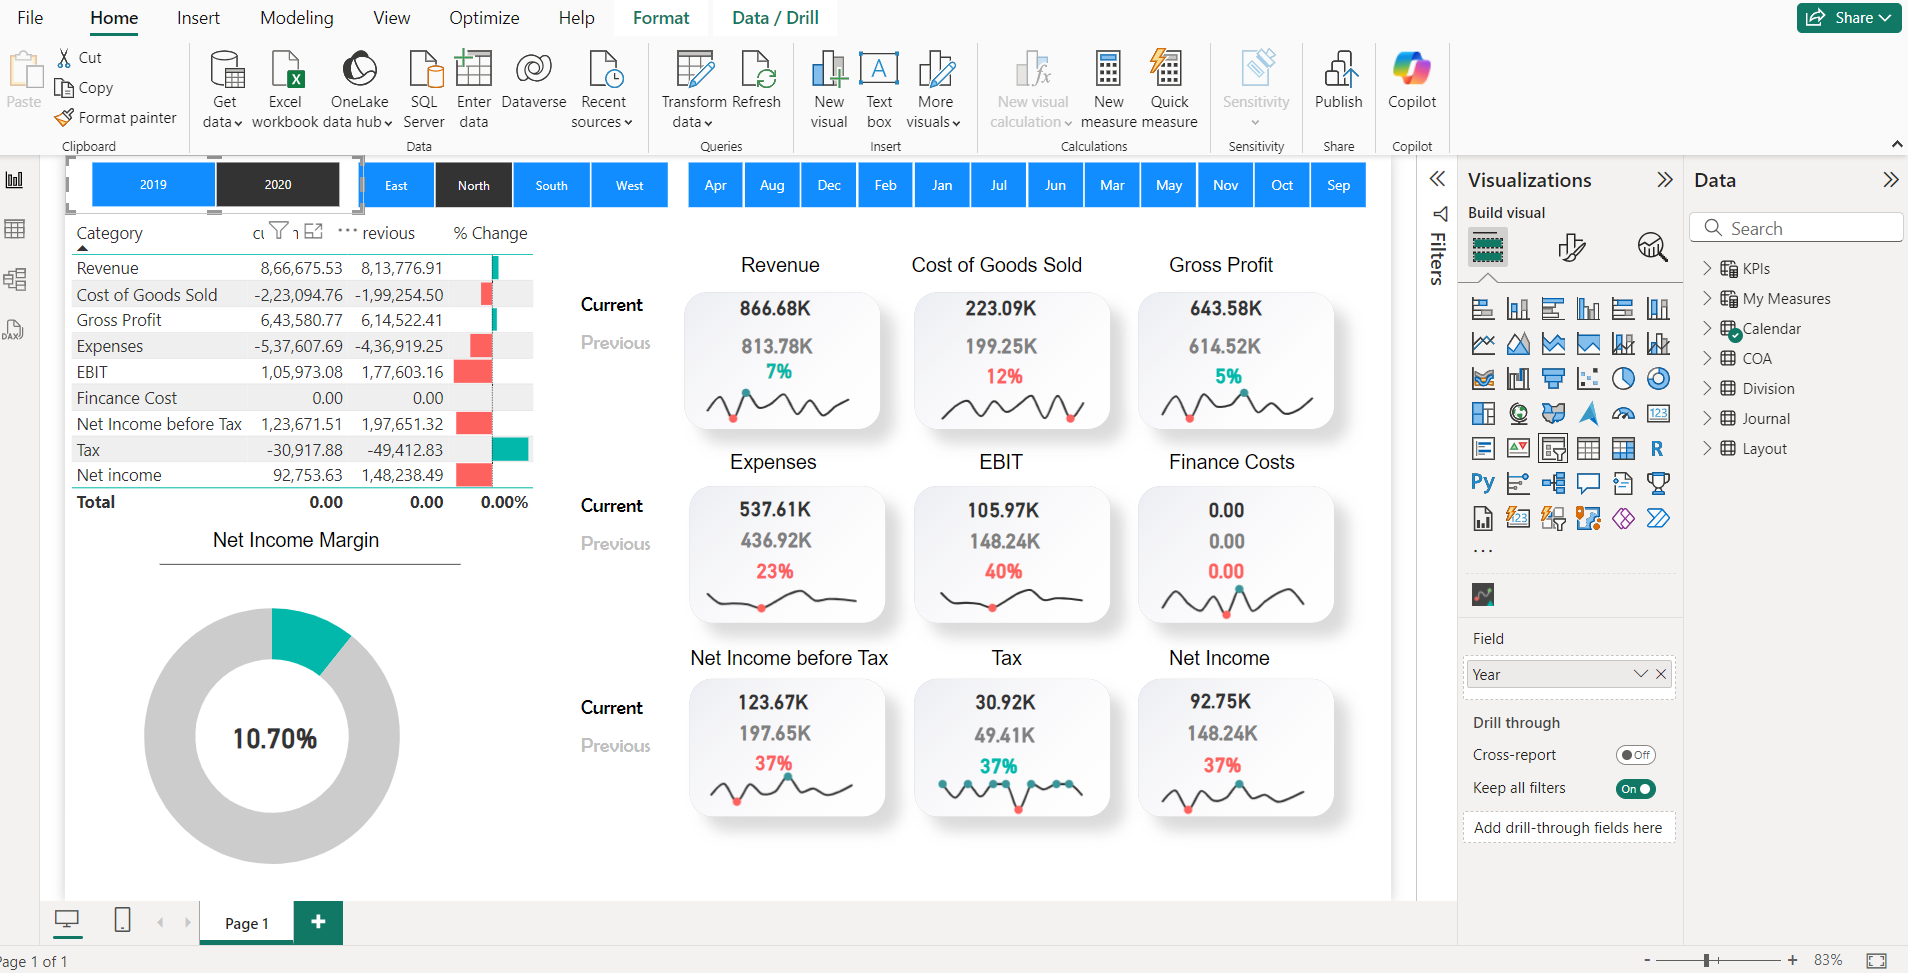

What the dashboard file says about the page in this screenshot:
{"tool":"powerbi","page":{"name":"Page 1","canvas":[1280,720],"ordinal":0},"visuals":[{"type":"card","fields":{"Values":["My Measures.Net Income Margin"]},"box":[133.3,526.7,136.7,70],"z":0},{"type":"tableEx","fields":{"Values":["Layout.Category ","My Measures.current","My Measures.Previous","My Measures.% Change"]},"box":[0,56.7,473.3,303.3],"z":1000},{"type":"slicer","fields":{"Values":["Calendar.Year"]},"box":[0,0,288.9,56.7],"z":2000},{"type":"donutChart","fields":{"Y":["My Measures.Net Income Margin","My Measures.Inv Net Margin"]},"box":[0,401.4,400,318.6],"z":3000},{"type":"card","fields":{"Values":["KPIs.Revenue Current"]},"box":[630,132.9,111.4,30],"z":4000},{"type":"card","fields":{"Values":["KPIs.Revenue Previous"]},"box":[631.4,170,112.9,28.6],"z":5000},{"type":"card","fields":{"Values":["KPIs.Revenue % Change"]},"box":[632.9,194.3,111.4,28.6],"z":6000},{"type":"PBI_CV_25997FEB_F466_44FA_B562_AC4063283C4C","fields":{"axis":["Calendar.Month Name"],"measure":["My Measures.Revenue"]},"box":[601.4,212.9,175.7,52.9],"z":7000},{"type":"card","fields":{"Values":["KPIs.Cost of Goods Sold Current"]},"box":[847.1,132.9,112.9,30],"z":8000},{"type":"card","fields":{"Values":["KPIs.Cost Of Goods Sold Previous"]},"box":[847.1,170,112.9,28.6],"z":9000},{"type":"card","fields":{"Values":["KPIs.Cost Of Goods Sold % Change"]},"box":[850,198.6,112.9,28.6],"z":10000},{"type":"PBI_CV_25997FEB_F466_44FA_B562_AC4063283C4C","fields":{"axis":["Calendar.Month Name"],"measure":["My Measures.Cost Of Goods Sold"]},"box":[828.6,212.9,175.7,52.9],"z":11000},{"type":"card","fields":{"Values":["KPIs.Gross Profit Current"]},"box":[1064.3,132.9,112.9,30],"z":12000},{"type":"card","fields":{"Values":["KPIs.Gross Profit Previous"]},"box":[1062.9,170,112.9,28.6],"z":13000},{"type":"card","fields":{"Values":["KPIs.Gross Profit % Change"]},"box":[1064.3,198.6,112.9,28.6],"z":14000},{"type":"PBI_CV_25997FEB_F466_44FA_B562_AC4063283C4C","fields":{"axis":["Calendar.Month Name"],"measure":["My Measures.Gross Profit"]},"box":[1041.4,212.9,184.3,52.9],"z":15000},{"type":"card","fields":{"Values":["KPIs.Expenses Current"]},"box":[628.6,327.1,112.9,30],"z":16000},{"type":"card","fields":{"Values":["KPIs.Expenses previous"]},"box":[630,357.1,112.9,28.6],"z":17000},{"type":"card","fields":{"Values":["KPIs.Expenses % Change"]},"box":[630,387.1,111.4,28.6],"z":18000},{"type":"PBI_CV_25997FEB_F466_44FA_B562_AC4063283C4C","fields":{"axis":["Calendar.Month Name"],"measure":["My Measures.Expenses"]},"box":[601.4,397.1,182.9,51.4],"z":19000},{"type":"card","fields":{"Values":["KPIs.EBIT Current"]},"box":[848.6,320,114.3,45.7],"z":20000},{"type":"card","fields":{"Values":["KPIs.EBIT Previous"]},"box":[850,358.6,112.9,28.6],"z":21000},{"type":"card","fields":{"Values":["KPIs.EBIT % Change"]},"box":[850,387.1,111.4,28.6],"z":22000},{"type":"PBI_CV_25997FEB_F466_44FA_B562_AC4063283C4C","fields":{"axis":["Calendar.Month Name"],"measure":["My Measures.Expenses"]},"box":[827.3,396.2,175.6,52.2],"z":23000},{"type":"card","fields":{"Values":["KPIs.Fincance Cost Current"]},"box":[1064.3,319.7,114.3,45.7],"z":24000},{"type":"card","fields":{"Values":["KPIs.Fincance Cost Current"]},"box":[1065.7,358.3,112.9,28.6],"z":25000},{"type":"card","fields":{"Values":["KPIs.Fincance Cost % Change"]},"box":[1065.7,386.9,111.4,28.6],"z":26000},{"type":"PBI_CV_25997FEB_F466_44FA_B562_AC4063283C4C","fields":{"axis":["Calendar.Month Name"],"measure":["My Measures.Finance Costs"]},"box":[1041.4,401.4,175.7,52.9],"z":27000},{"type":"card","fields":{"Values":["KPIs.Net Income Before Tax Current"]},"box":[626.6,506,114.3,45.7],"z":28000},{"type":"card","fields":{"Values":["KPIs.Net Income Before Tax  Previous"]},"box":[628,544.6,112.9,28.6],"z":29000},{"type":"card","fields":{"Values":["KPIs.Net Income before Tax % Change"]},"box":[628,573.1,111.4,28.6],"z":30000},{"type":"PBI_CV_25997FEB_F466_44FA_B562_AC4063283C4C","fields":{"axis":["Calendar.Month Name"],"measure":["My Measures.Net income Before Tax"]},"box":[605.3,582.2,175.6,52.2],"z":31000},{"type":"card","fields":{"Values":["KPIs.Net income Previous"]},"box":[1060,544.3,112.9,28.6],"z":32000},{"type":"card","fields":{"Values":["KPIs.Tax % Change"]},"box":[846.3,575.4,111.4,28.6],"z":33000},{"type":"PBI_CV_25997FEB_F466_44FA_B562_AC4063283C4C","fields":{"axis":["Calendar.Month Name"],"measure":["My Measures.Tax"]},"box":[828.6,590,174.3,52.9],"z":34000},{"type":"card","fields":{"Values":["KPIs.Tax Current"]},"box":[850,505.7,114.3,45.7],"z":35000},{"type":"card","fields":{"Values":["KPIs.Tax Previous"]},"box":[850,545.7,112.9,28.6],"z":36000},{"type":"card","fields":{"Values":["KPIs.Net income  % Change"]},"box":[1061.1,574.3,111.4,28.6],"z":37000},{"type":"PBI_CV_25997FEB_F466_44FA_B562_AC4063283C4C","fields":{"axis":["Calendar.Month Name"],"measure":["My Measures.Net income"]},"box":[1041.4,590,175.7,52.9],"z":38000},{"type":"card","fields":{"Values":["KPIs.Net income Current"]},"box":[1058.6,504.3,114.3,45.7],"z":39000},{"type":"slicer","fields":{"Values":["Division.Division"]},"box":[257.1,0,348.6,57.1],"z":40000},{"type":"slicer","fields":{"Values":["Calendar.Month Name"]},"box":[575.7,0,704.3,57.1],"z":41000}]}

Visuals, with their boxes on the page's 1280x720 design canvas (x1, y1, x2, y2). These are canvas units, not pixel positions in the 1908x973 screenshot, which may show the page scaled, cropped or inside an application window:
card - My Measures.Net Income Margin: region(133, 527, 270, 597)
tableEx - Layout.Category  x My Measures.current: region(0, 57, 473, 360)
slicer - Calendar.Year: region(0, 0, 289, 57)
donutChart - My Measures.Net Income Margin x My Measures.Inv Net Margin: region(0, 401, 400, 720)
card - KPIs.Revenue Current: region(630, 133, 741, 163)
card - KPIs.Revenue Previous: region(631, 170, 744, 199)
card - KPIs.Revenue % Change: region(633, 194, 744, 223)
PBI_CV_25997FEB_F466_44FA_B562_AC4063283C4C - Calendar.Month Name x My Measures.Revenue: region(601, 213, 777, 266)
card - KPIs.Cost of Goods Sold Current: region(847, 133, 960, 163)
card - KPIs.Cost Of Goods Sold Previous: region(847, 170, 960, 199)
card - KPIs.Cost Of Goods Sold % Change: region(850, 199, 963, 227)
PBI_CV_25997FEB_F466_44FA_B562_AC4063283C4C - Calendar.Month Name x My Measures.Cost Of Goods Sold: region(829, 213, 1004, 266)
card - KPIs.Gross Profit Current: region(1064, 133, 1177, 163)
card - KPIs.Gross Profit Previous: region(1063, 170, 1176, 199)
card - KPIs.Gross Profit % Change: region(1064, 199, 1177, 227)
PBI_CV_25997FEB_F466_44FA_B562_AC4063283C4C - Calendar.Month Name x My Measures.Gross Profit: region(1041, 213, 1226, 266)
card - KPIs.Expenses Current: region(629, 327, 742, 357)
card - KPIs.Expenses previous: region(630, 357, 743, 386)
card - KPIs.Expenses % Change: region(630, 387, 741, 416)
PBI_CV_25997FEB_F466_44FA_B562_AC4063283C4C - Calendar.Month Name x My Measures.Expenses: region(601, 397, 784, 448)
card - KPIs.EBIT Current: region(849, 320, 963, 366)
card - KPIs.EBIT Previous: region(850, 359, 963, 387)
card - KPIs.EBIT % Change: region(850, 387, 961, 416)
PBI_CV_25997FEB_F466_44FA_B562_AC4063283C4C - Calendar.Month Name x My Measures.Expenses: region(827, 396, 1003, 448)
card - KPIs.Fincance Cost Current: region(1064, 320, 1179, 365)
card - KPIs.Fincance Cost Current: region(1066, 358, 1179, 387)
card - KPIs.Fincance Cost % Change: region(1066, 387, 1177, 416)
PBI_CV_25997FEB_F466_44FA_B562_AC4063283C4C - Calendar.Month Name x My Measures.Finance Costs: region(1041, 401, 1217, 454)
card - KPIs.Net Income Before Tax Current: region(627, 506, 741, 552)
card - KPIs.Net Income Before Tax  Previous: region(628, 545, 741, 573)
card - KPIs.Net Income before Tax % Change: region(628, 573, 739, 602)
PBI_CV_25997FEB_F466_44FA_B562_AC4063283C4C - Calendar.Month Name x My Measures.Net income Before Tax: region(605, 582, 781, 634)
card - KPIs.Net income Previous: region(1060, 544, 1173, 573)
card - KPIs.Tax % Change: region(846, 575, 958, 604)
PBI_CV_25997FEB_F466_44FA_B562_AC4063283C4C - Calendar.Month Name x My Measures.Tax: region(829, 590, 1003, 643)
card - KPIs.Tax Current: region(850, 506, 964, 551)
card - KPIs.Tax Previous: region(850, 546, 963, 574)
card - KPIs.Net income  % Change: region(1061, 574, 1172, 603)
PBI_CV_25997FEB_F466_44FA_B562_AC4063283C4C - Calendar.Month Name x My Measures.Net income: region(1041, 590, 1217, 643)
card - KPIs.Net income Current: region(1059, 504, 1173, 550)
slicer - Division.Division: region(257, 0, 606, 57)
slicer - Calendar.Month Name: region(576, 0, 1280, 57)
